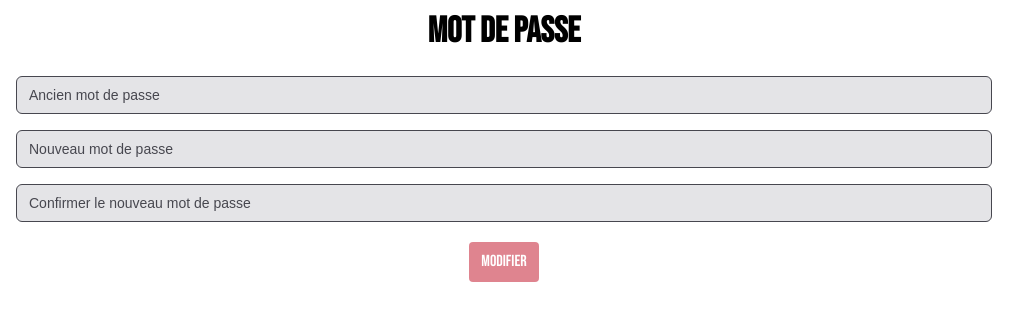
Test case: ChangePasswordModal › affiche une erreur locale si les mots de passe ne correspondent pas
Type "AncienMotDePasse" into the password field with placeholder "Ancien mot de passe".
click(504, 95); type("AncienMotDePasse")  # box [16,76,992,114]
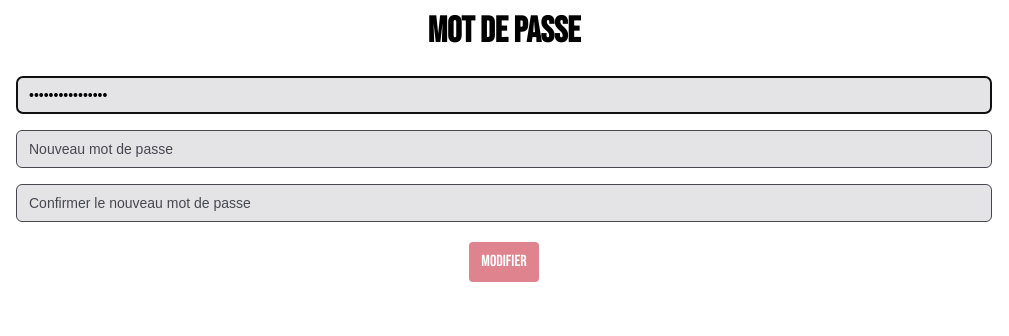
Type "MotDePasse1" into the password field with placeholder "Nouveau mot de passe".
click(504, 149); type("MotDePasse1")  # box [16,130,992,168]
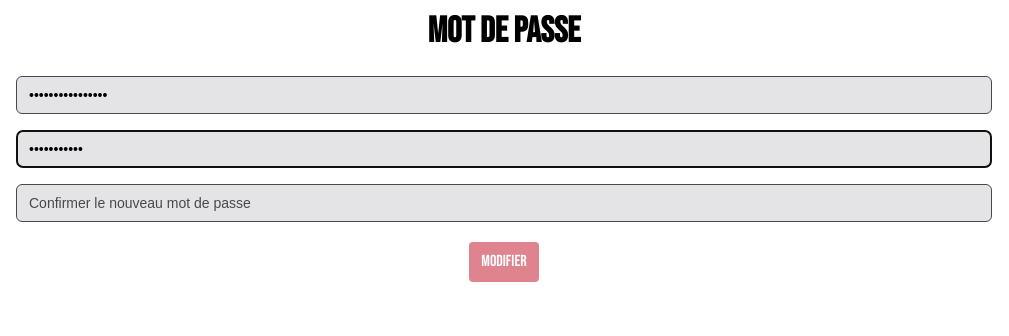
Type "MotDePasse2" into the password field with placeholder "Confirmer le nouveau mot de passe".
click(504, 203); type("MotDePasse2")  # box [16,184,992,222]
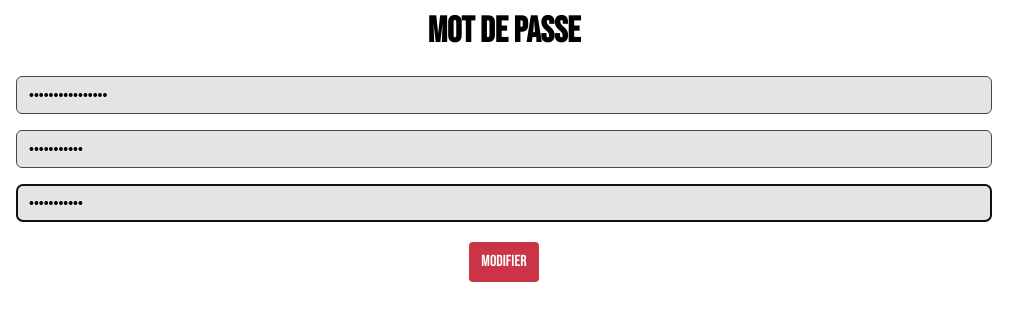
Click the button "Modifier".
click(504, 262)  # box [469,242,539,282]
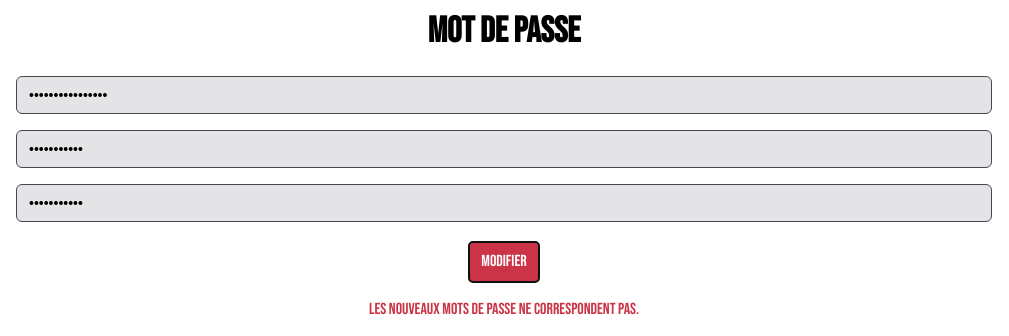
Result: the text "Les nouveaux mots de passe ne correspondent pas." is shown at [369,300,639,319]
